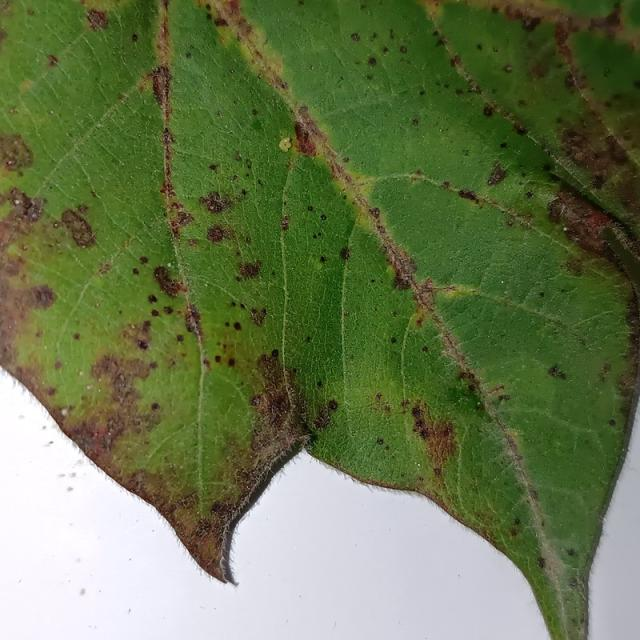Bacterial_Blight: (548, 189, 621, 256), (251, 360, 301, 445), (559, 128, 610, 177), (5, 188, 46, 229), (292, 106, 326, 155), (206, 1, 250, 38), (60, 208, 98, 248), (0, 131, 35, 174), (500, 2, 549, 31), (153, 265, 186, 299), (150, 66, 172, 117), (587, 5, 623, 35), (310, 397, 340, 432), (540, 359, 578, 385), (603, 134, 631, 166), (411, 279, 439, 311), (199, 190, 233, 215), (27, 284, 58, 310), (183, 304, 203, 343), (331, 240, 356, 268), (40, 46, 69, 70), (371, 392, 395, 419), (391, 266, 415, 292), (486, 162, 508, 187), (237, 259, 262, 281), (206, 223, 231, 244), (457, 370, 479, 393), (562, 255, 585, 277), (86, 9, 109, 30), (172, 207, 194, 228), (411, 305, 427, 328), (249, 306, 267, 326), (457, 188, 479, 203), (209, 500, 226, 515), (161, 128, 176, 145), (97, 262, 112, 276), (482, 104, 495, 117), (280, 215, 290, 231), (213, 17, 228, 27), (450, 54, 461, 67), (569, 576, 580, 589), (137, 339, 149, 350), (327, 399, 338, 411), (411, 406, 422, 418), (368, 207, 380, 218), (147, 293, 158, 304), (536, 557, 546, 569), (528, 488, 538, 500), (497, 394, 510, 403), (367, 56, 377, 66), (350, 32, 360, 42), (232, 321, 242, 331), (566, 548, 576, 557), (420, 428, 429, 438), (151, 402, 160, 411), (504, 64, 513, 73), (139, 256, 149, 264), (208, 163, 218, 171), (271, 348, 279, 358), (54, 360, 62, 370), (131, 32, 139, 42), (9, 107, 19, 115), (499, 141, 508, 149), (525, 191, 534, 199), (176, 334, 184, 343), (150, 309, 159, 317), (399, 45, 407, 54), (375, 393, 383, 402), (228, 358, 236, 367), (312, 232, 322, 239), (461, 149, 471, 156), (376, 437, 384, 445), (411, 118, 419, 126), (513, 518, 521, 526), (132, 267, 140, 275), (214, 355, 222, 363), (73, 332, 80, 341), (319, 255, 326, 263), (608, 419, 616, 426), (316, 380, 323, 388), (251, 108, 258, 116), (418, 89, 426, 96), (476, 43, 483, 51), (21, 244, 28, 252), (390, 337, 397, 344), (538, 291, 545, 298), (320, 214, 327, 221), (307, 205, 314, 212), (185, 52, 192, 59), (422, 346, 429, 352), (370, 278, 376, 284), (95, 301, 100, 308), (309, 65, 314, 71)
Cotton: (0, 0, 639, 639)
